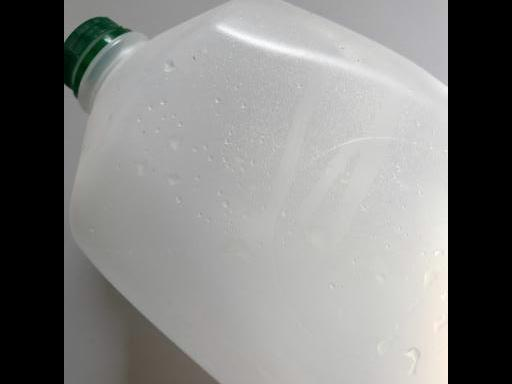HDPE: (65, 0, 448, 384)
plastic: (65, 0, 448, 384)
